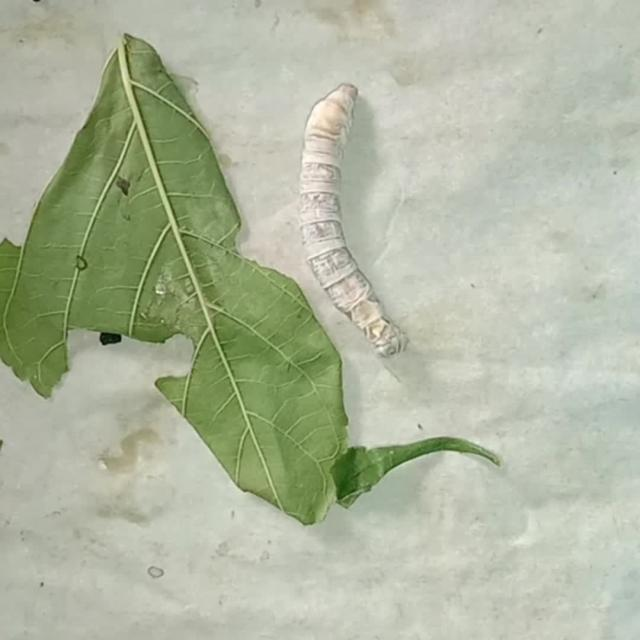Grasserie: (282, 71, 413, 359)
